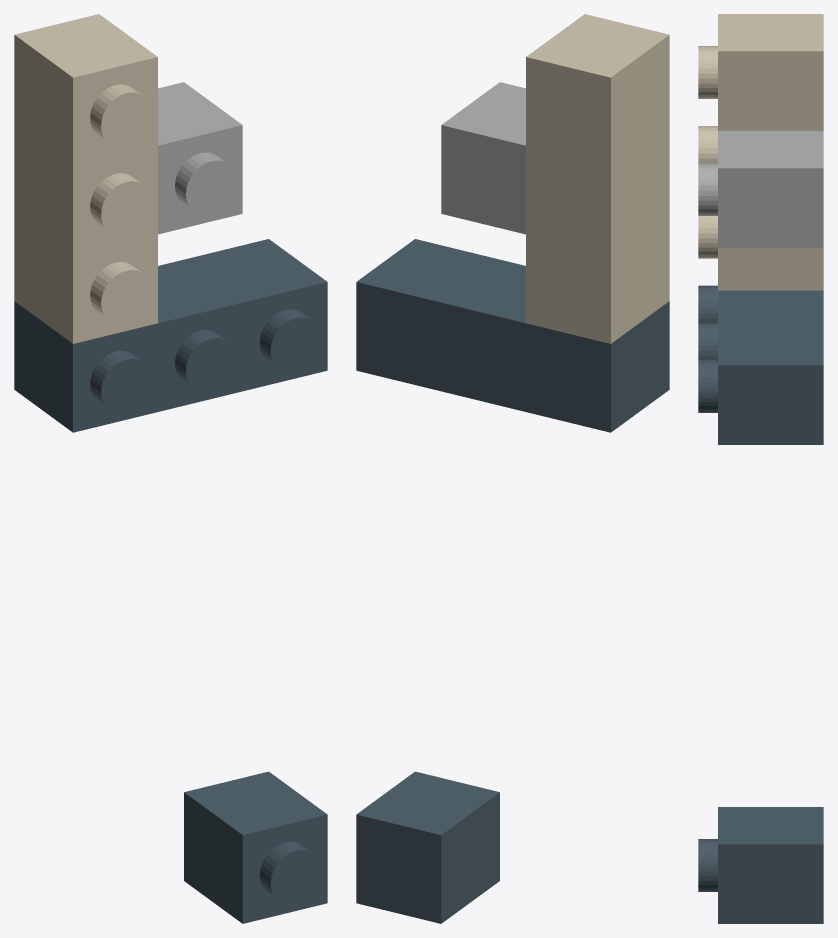
File: current.glb
The picture shows the model from 3 angles, left to right: view 1: azimuth 30°, elevation 25°; view 2: azimuth 150°, elevation 25°; view 3: azimuth 270°, elevation 25°; orthographic projection. The views are drawn at different scales.
Parts seen in each view (by area): view 1: world; view 2: world; view 3: world.
Part boxes in pixels (box(x1,y1,x2,y2)): world: box(14, 14, 327, 923); world: box(356, 14, 669, 923); world: box(698, 14, 823, 923).
Size of the model in its own units: 24 by 80 by 11.4.
